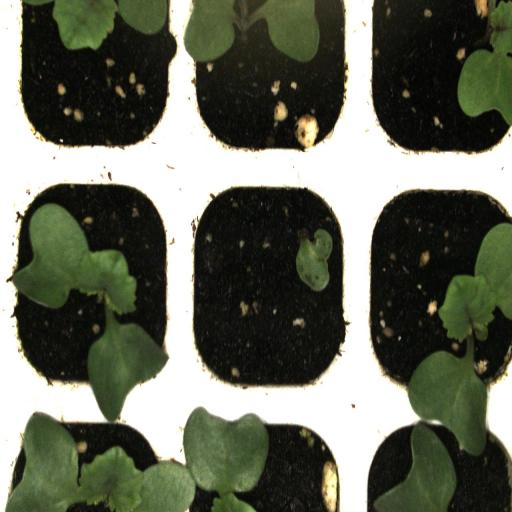seedling: (7, 166, 180, 403), (358, 172, 512, 405), (182, 0, 356, 176)
weak: (180, 172, 357, 404)
